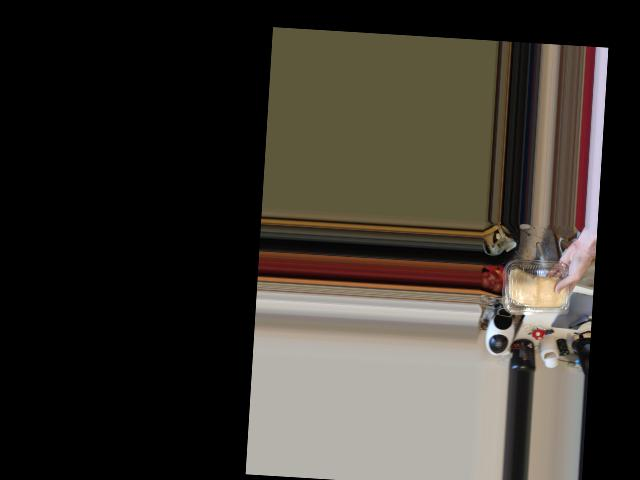cheese: (506, 255, 569, 322)
